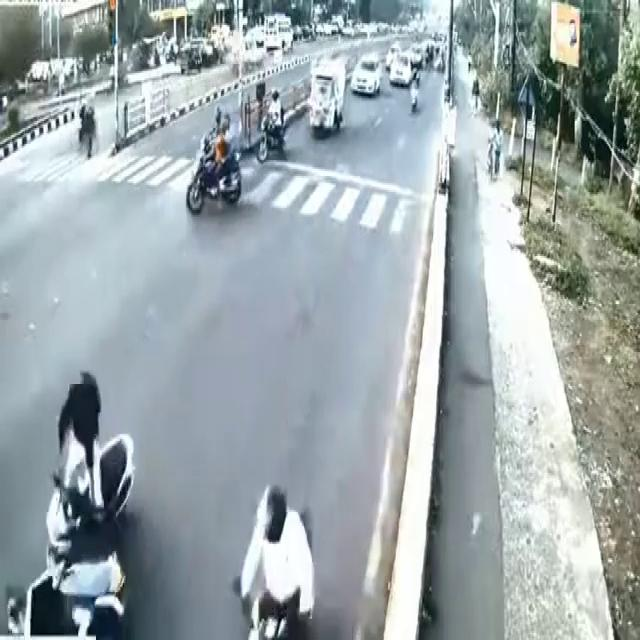accident: (8, 362, 156, 640)
